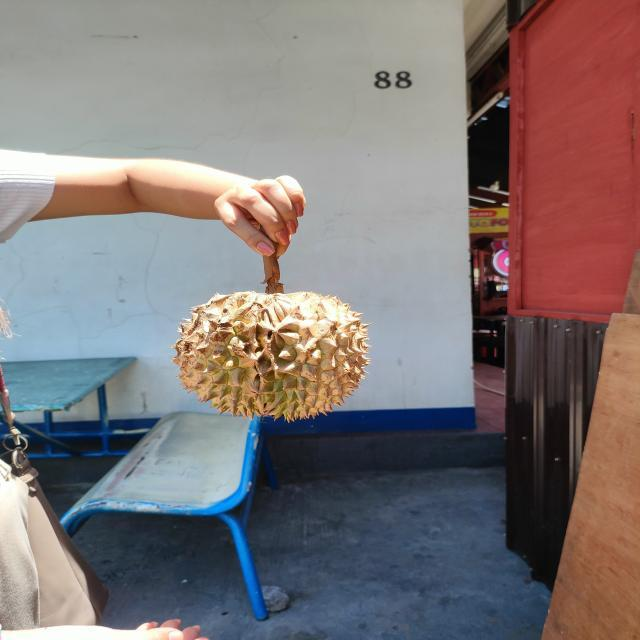mature: (170, 289, 372, 423)
